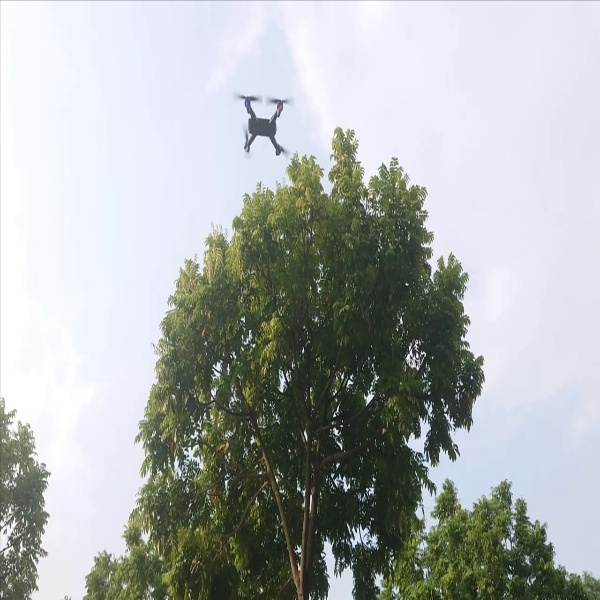drone: (225, 83, 309, 171)
